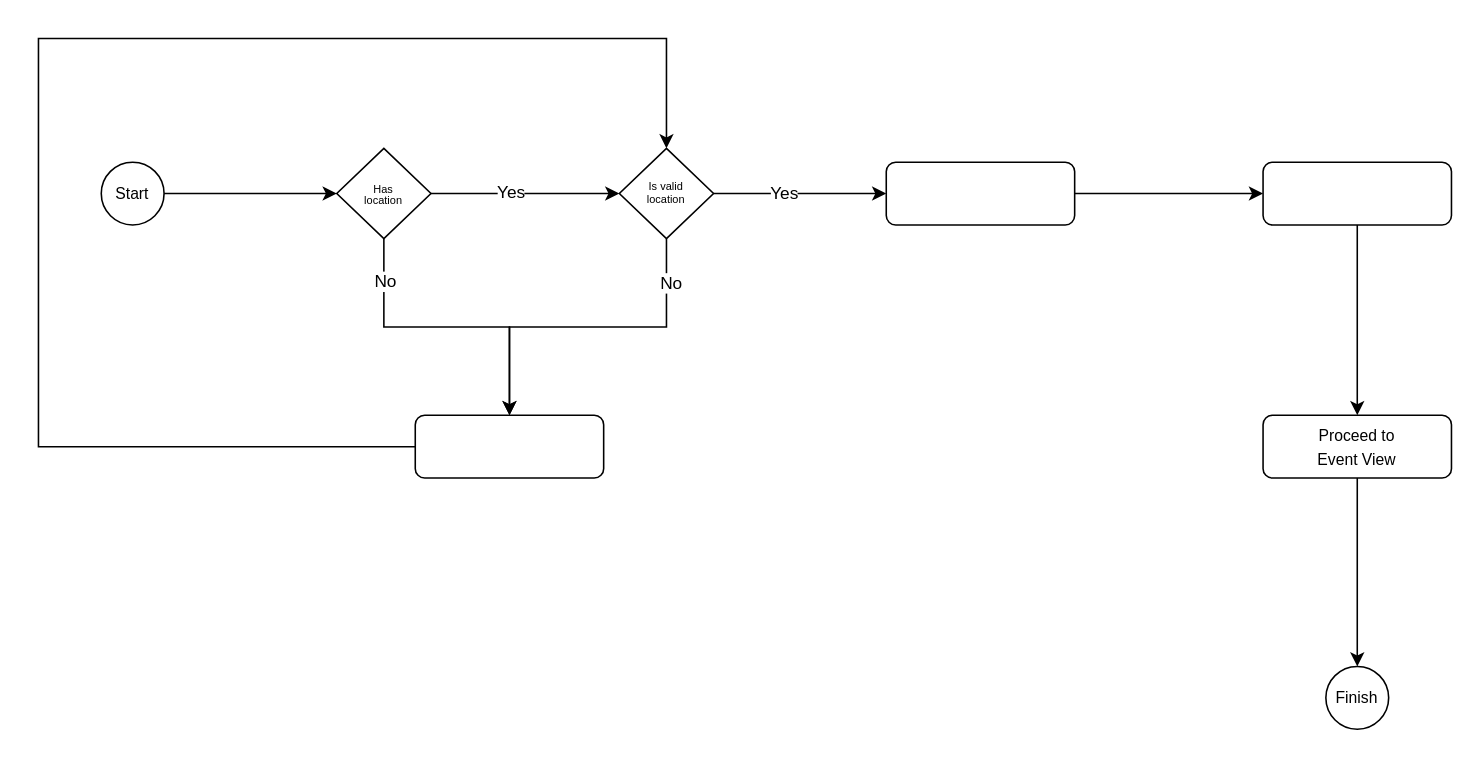
Some shapes in this 1479 by 757 pixel diagram are drawn without their labels. The shapes that lost their labels are listed below. From the top down, each one's box as (x1, y1, x2, y2) in pixels, then its label:
(885, 161, 1075, 225): Proceed to Event Info Form
(1261, 161, 1451, 225): Complete Event Info Form
(414, 414, 604, 478): Find Location
